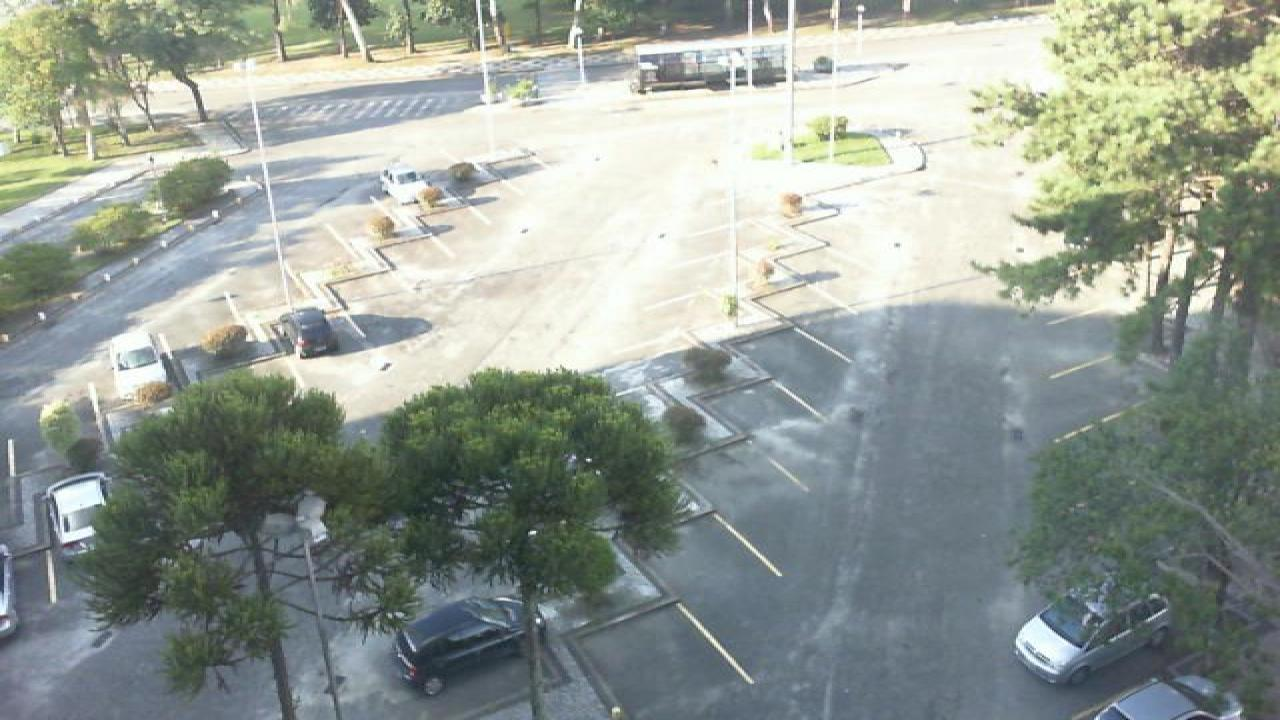Car: (1012, 590, 1178, 688), (392, 596, 532, 696), (1090, 676, 1246, 720), (42, 471, 112, 556), (108, 330, 172, 393), (280, 305, 340, 360), (378, 168, 432, 206), (0, 543, 20, 639)
